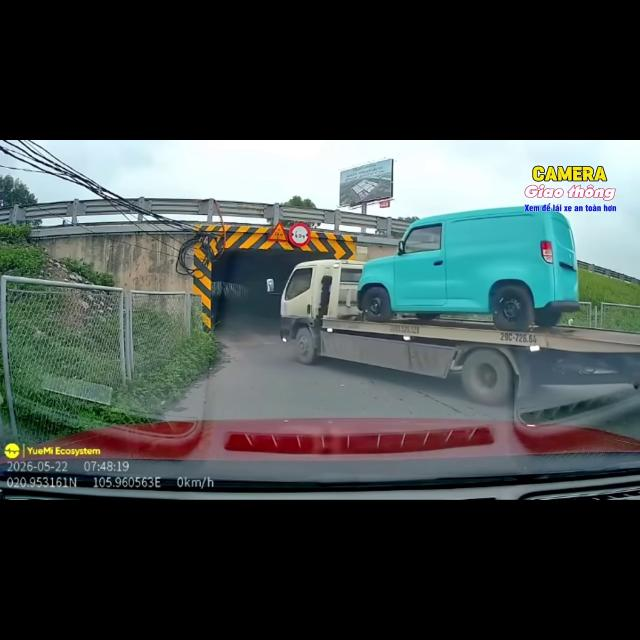car: (358, 207, 579, 331)
truck: (280, 260, 639, 405)
